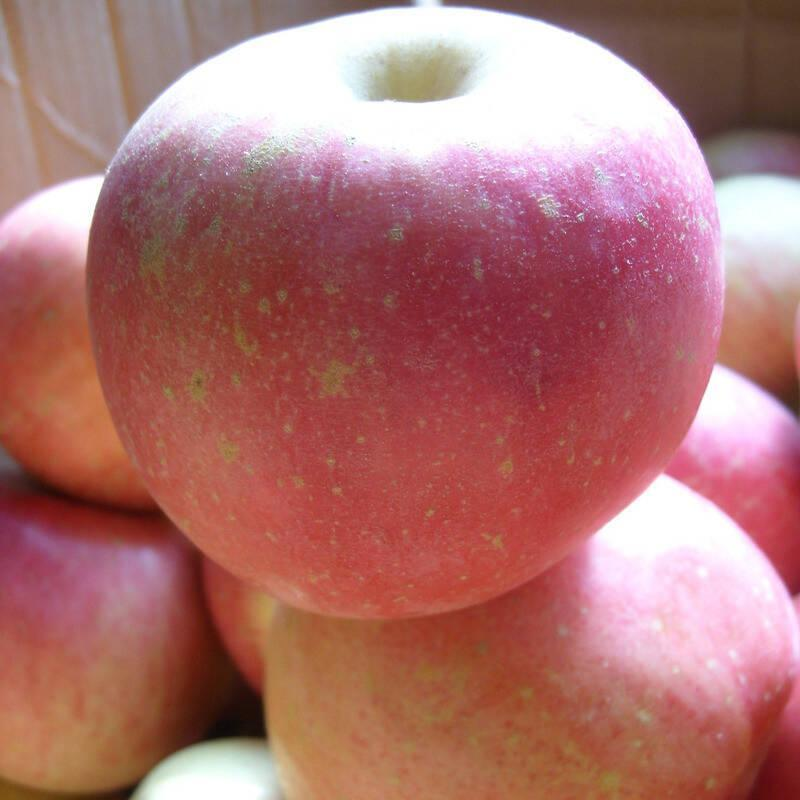apple: (77, 12, 730, 616), (196, 479, 800, 800)
